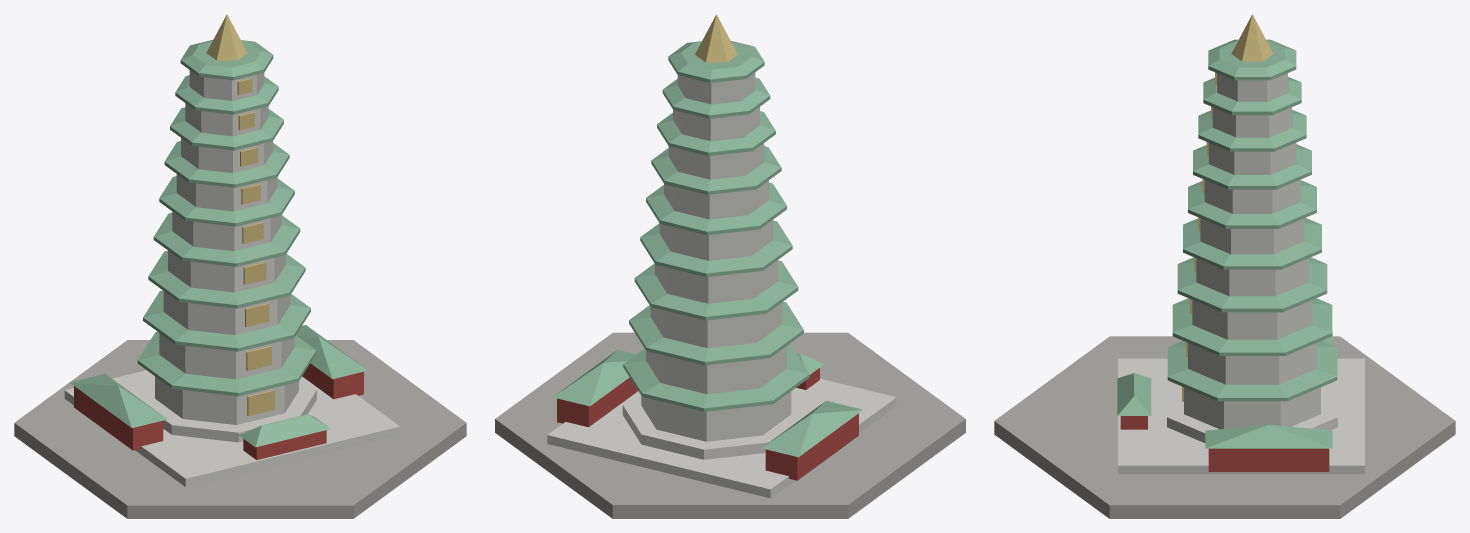
The model's file is porcelain-tower.glb.
3 views of the same model, side by side, from view 1: azimuth 30°, elevation 25°; view 2: azimuth 150°, elevation 25°; view 3: azimuth 270°, elevation 25° (orthographic). The views are drawn at different scales.
Parts seen in each view (by area): view 1: LOD0; view 2: LOD0; view 3: LOD0.
Boxes of the visible parts, box(x1,y1,x2,y2) form: LOD0: box(14, 14, 466, 518); LOD0: box(495, 14, 965, 518); LOD0: box(994, 14, 1455, 518).
Size of what is drawn, in the model's own units: 1.45 by 1.69 by 1.68.
